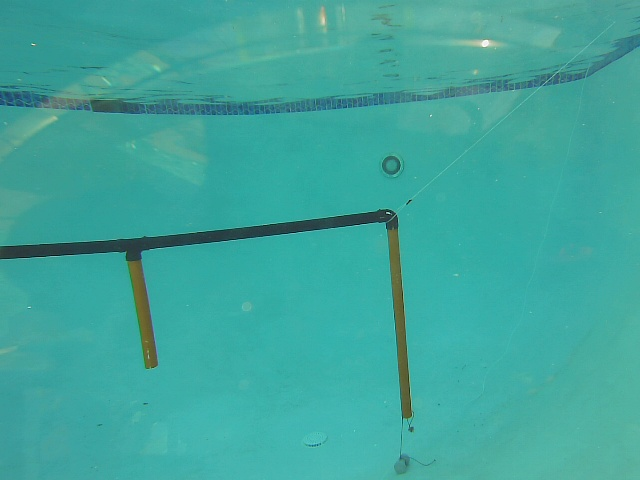Gate: (384, 223, 415, 421), (122, 255, 160, 370)
